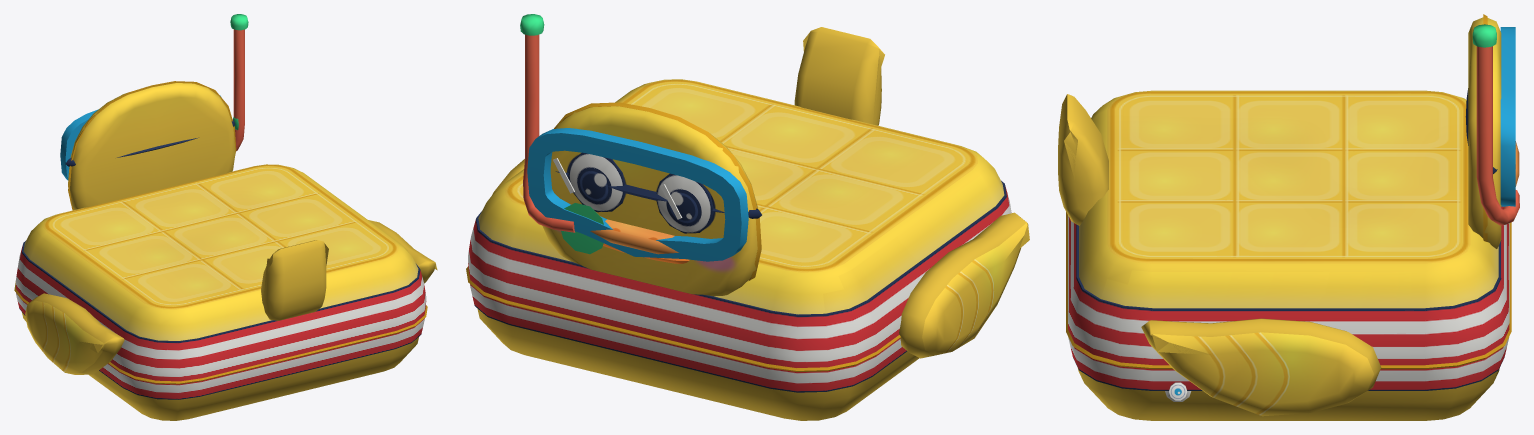
The model's file is pool_duck_snorkel.fbx.
The picture shows the model from 3 angles, left to right: view 1: azimuth 30°, elevation 25°; view 2: azimuth 150°, elevation 25°; view 3: azimuth 270°, elevation 25°; orthographic projection. The views are drawn at different scales.
Parts seen in each view (by area): view 1: pool_duck_snorkel_LOD0; view 2: pool_duck_snorkel_LOD0; view 3: pool_duck_snorkel_LOD0.
Part boxes in pixels (<box>): pool_duck_snorkel_LOD0: <box>14,14,437,420</box>; pool_duck_snorkel_LOD0: <box>466,14,1029,420</box>; pool_duck_snorkel_LOD0: <box>1058,14,1519,420</box>.
Bounding box in the file's own units: 12 × 9 × 10.
1 material, 1 textured.
